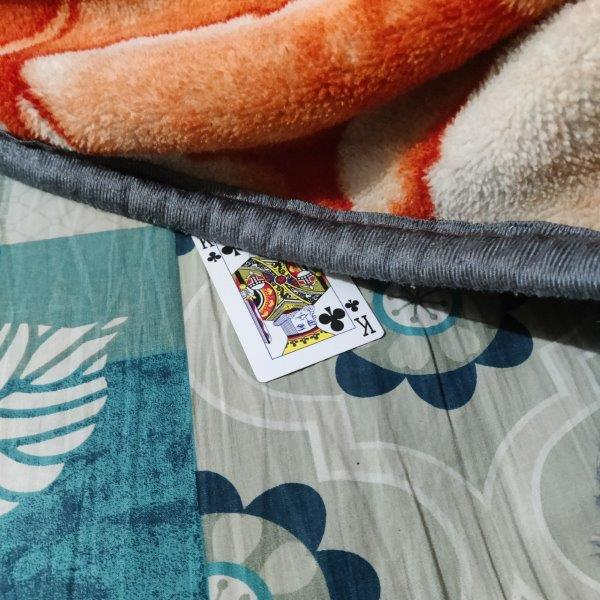King of Clubs: (192, 235, 387, 385)
